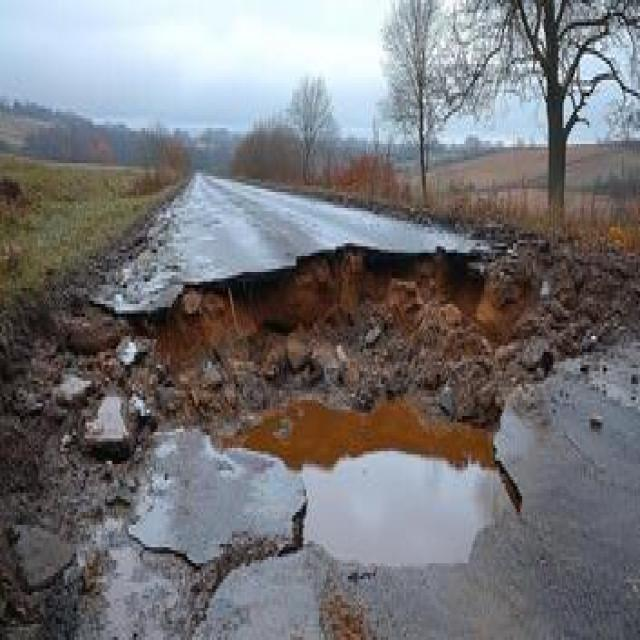road collapse: (22, 115, 640, 640)
